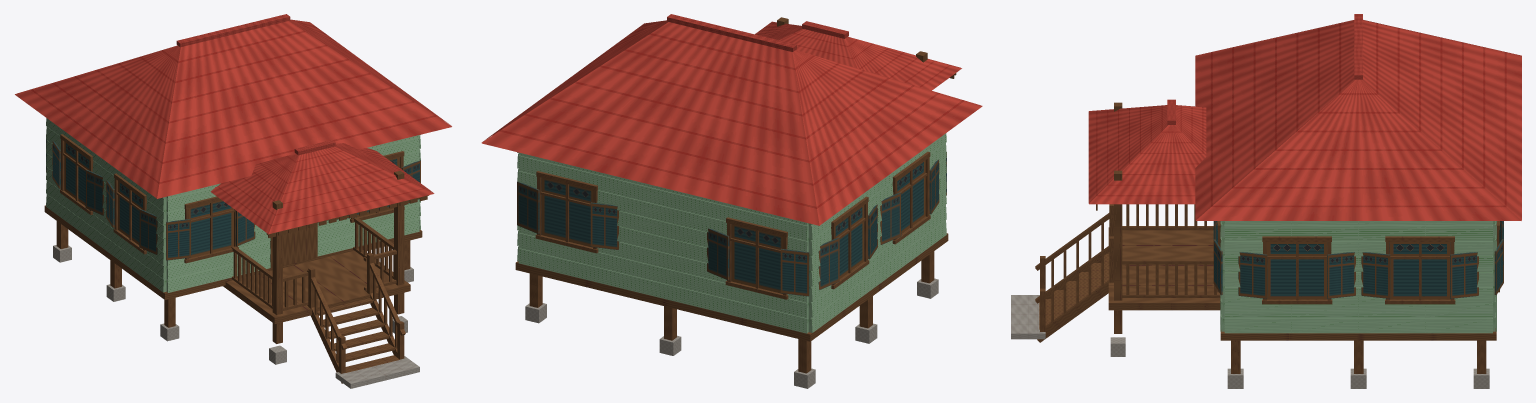
Rendered from rumah_jiran_2.glb.
3 renders of one model, left to right at view 1: azimuth 30°, elevation 25°; view 2: azimuth 150°, elevation 25°; view 3: azimuth 270°, elevation 25°, orthographic. The views are drawn at different scales.
Parts seen in each view (by area): view 1: Rumah_Jiran_2; view 2: Rumah_Jiran_2; view 3: Rumah_Jiran_2.
Part boxes in pixels (x1=…): Rumah_Jiran_2: x1=15, y1=14, x2=451, y2=388; Rumah_Jiran_2: x1=481, y1=14, x2=982, y2=388; Rumah_Jiran_2: x1=1011, y1=14, x2=1521, y2=388.
Bounding box in the file's own units: 7.31 × 5.8 × 9.56.
1 material, 1 textured.
